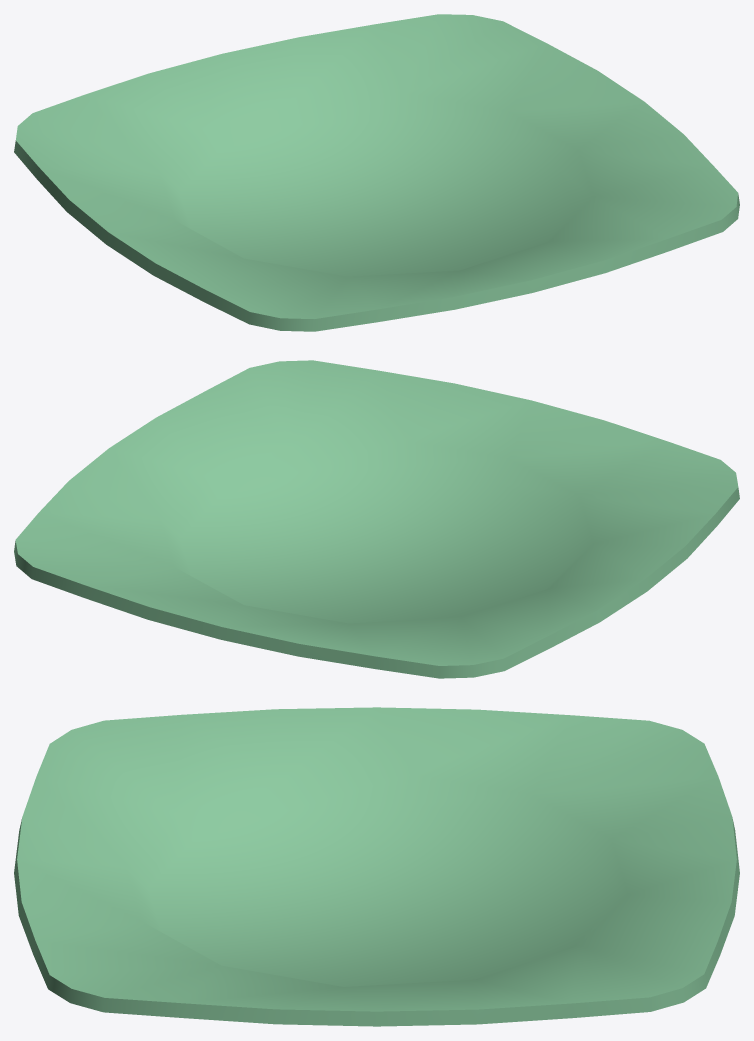
Rendered from PlateD.FBX.
3 renders of one model, top to bottom at view 1: azimuth 30°, elevation 25°; view 2: azimuth 150°, elevation 25°; view 3: azimuth 270°, elevation 25°, orthographic. The views are drawn at different scales.
Visible parts, largest first — view 1: PlateD_LOD0; view 2: PlateD_LOD0; view 3: PlateD_LOD0.
Part boxes in pixels (x1,y1,x2,y2): PlateD_LOD0: (14,14,739,331); PlateD_LOD0: (14,360,739,678); PlateD_LOD0: (14,707,739,1026).
Size of what is drawn, in the model's own units: 23.62 by 1.95 by 23.62.
